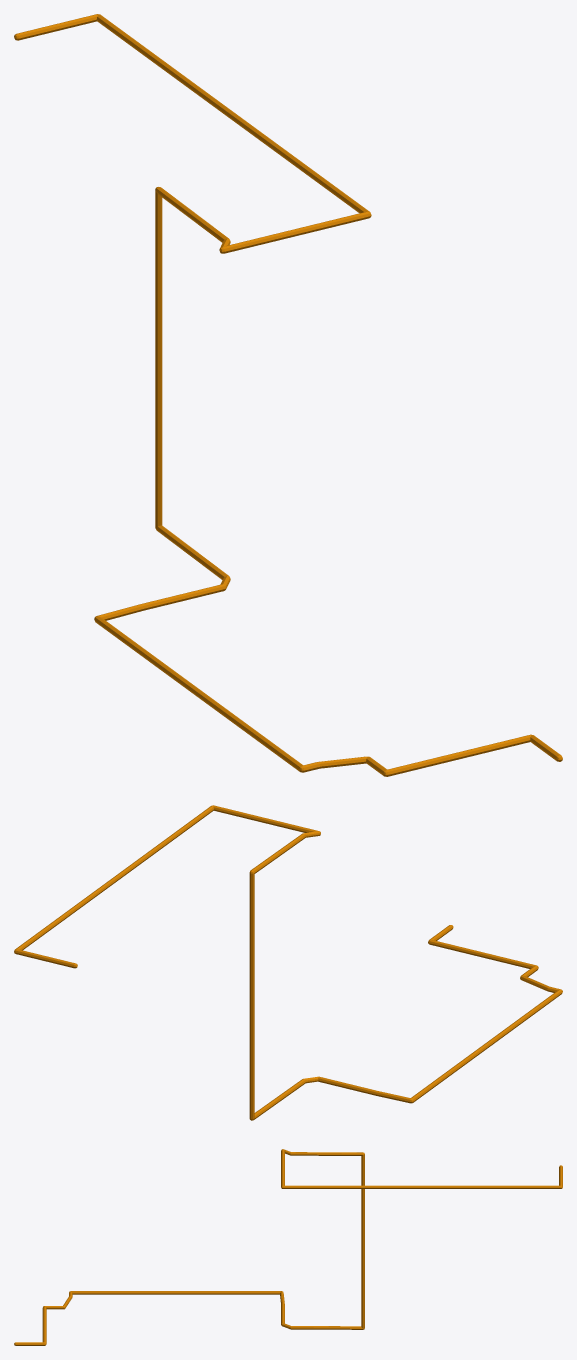
3 renders of one model, top to bottom at view 1: azimuth 30°, elevation 25°; view 2: azimuth 150°, elevation 25°; view 3: azimuth 270°, elevation 25°, orthographic. The views are drawn at different scales.
Bounding box in the file's own units: 862 × 1020 × 2863.
